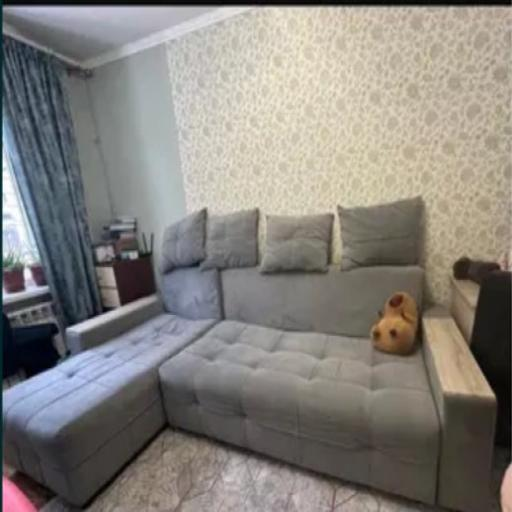sidewalk: (3, 265, 496, 511)
